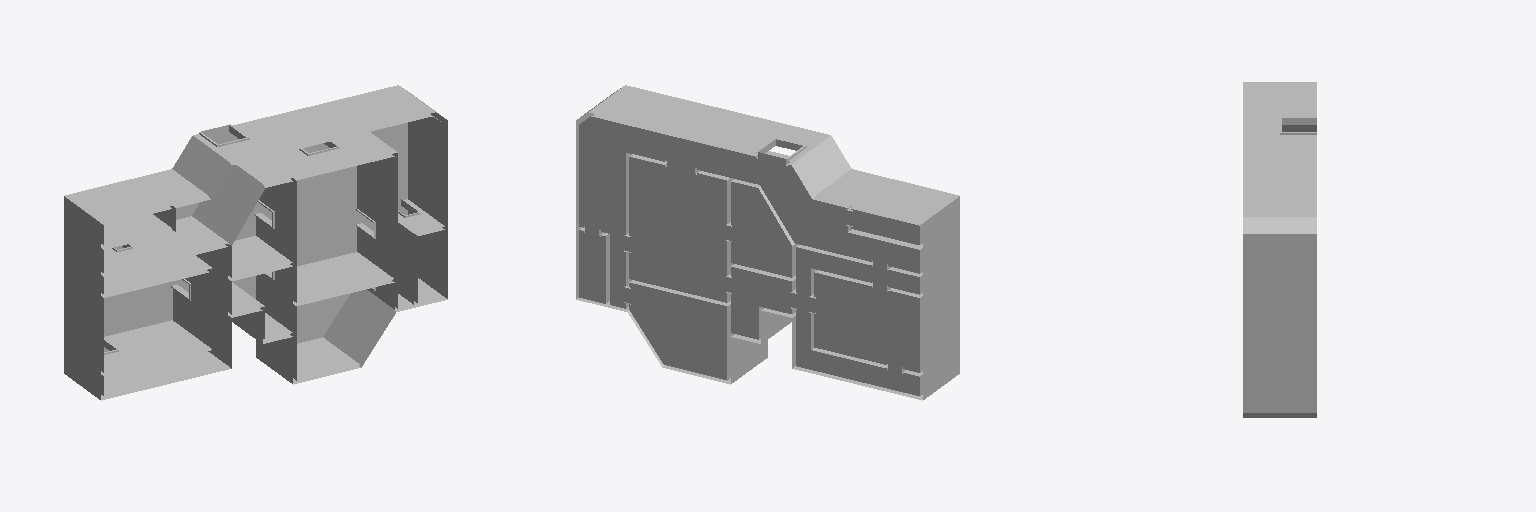
Rendered from 1stFloor.obj.
3 views of the same model, side by side, from view 1: azimuth 30°, elevation 25°; view 2: azimuth 150°, elevation 25°; view 3: azimuth 270°, elevation 25° (orthographic).
Parts seen in each view (by area): view 1: 1stFloor; view 2: 1stFloor; view 3: 1stFloor.
Part boxes in pixels (x1,y1,x2,y2): 1stFloor: (64, 85, 447, 400); 1stFloor: (576, 85, 959, 400); 1stFloor: (1243, 82, 1316, 417).
Bounding box in the file's own units: 215 × 142 × 40.